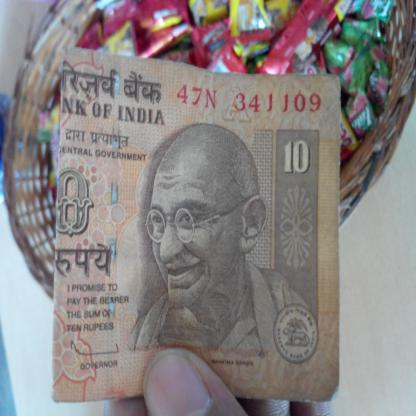Old10Front: (52, 45, 341, 404)
